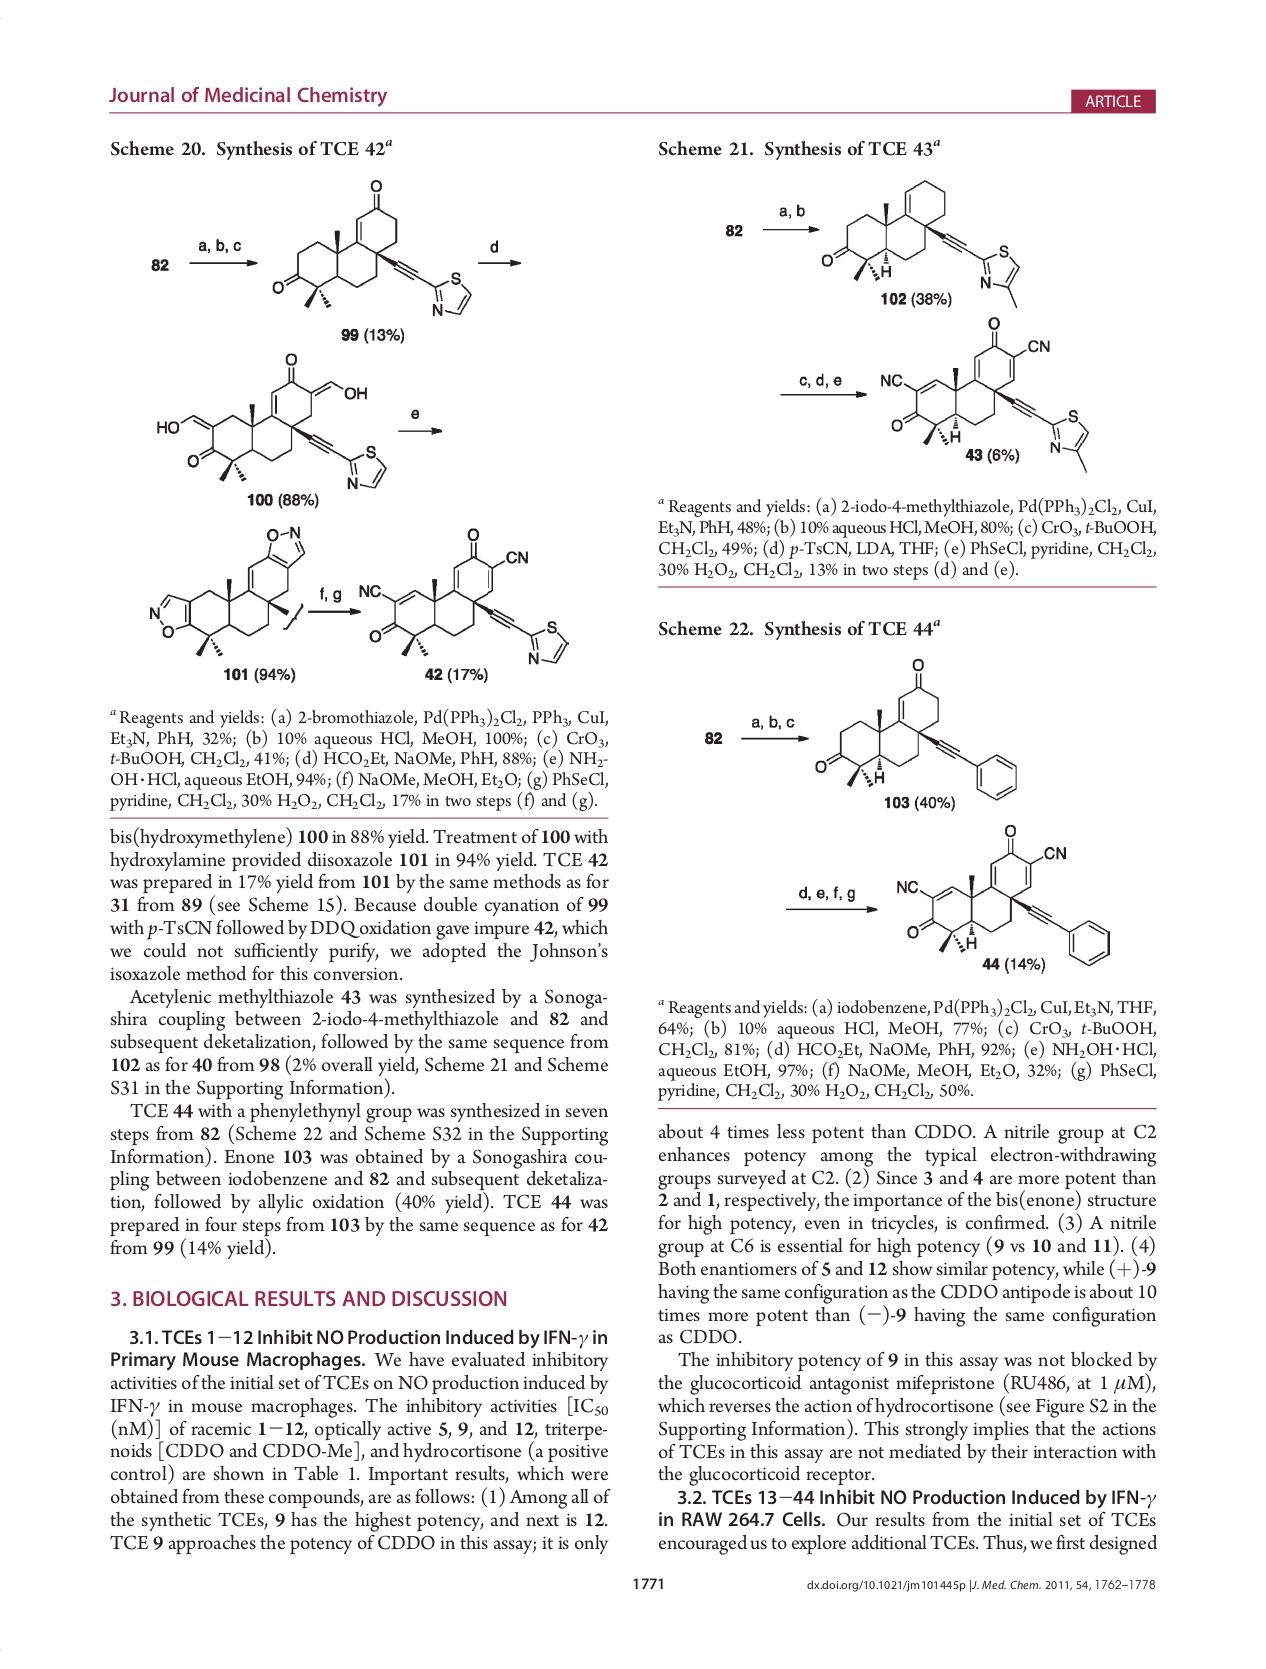exist_molecular: (878, 313, 1094, 475), (152, 350, 394, 495), (892, 822, 1114, 969), (813, 656, 1024, 803), (355, 523, 570, 666), (266, 176, 473, 317), (819, 176, 1024, 310), (146, 523, 309, 657)
